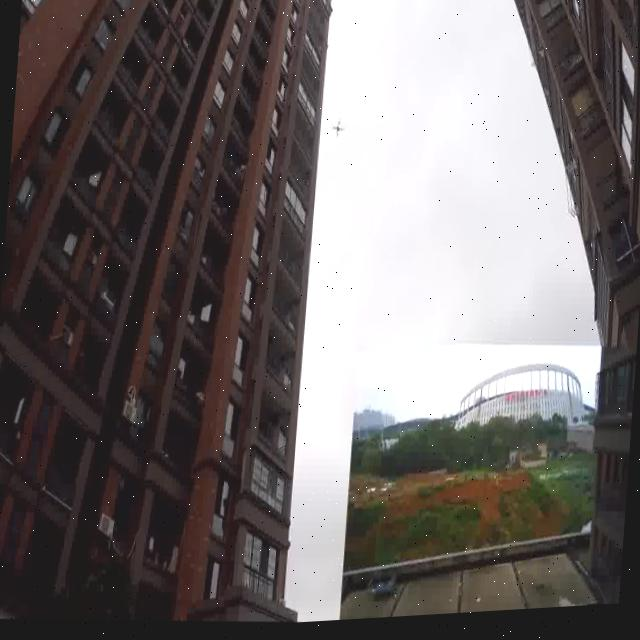drone: (328, 119, 347, 145)
